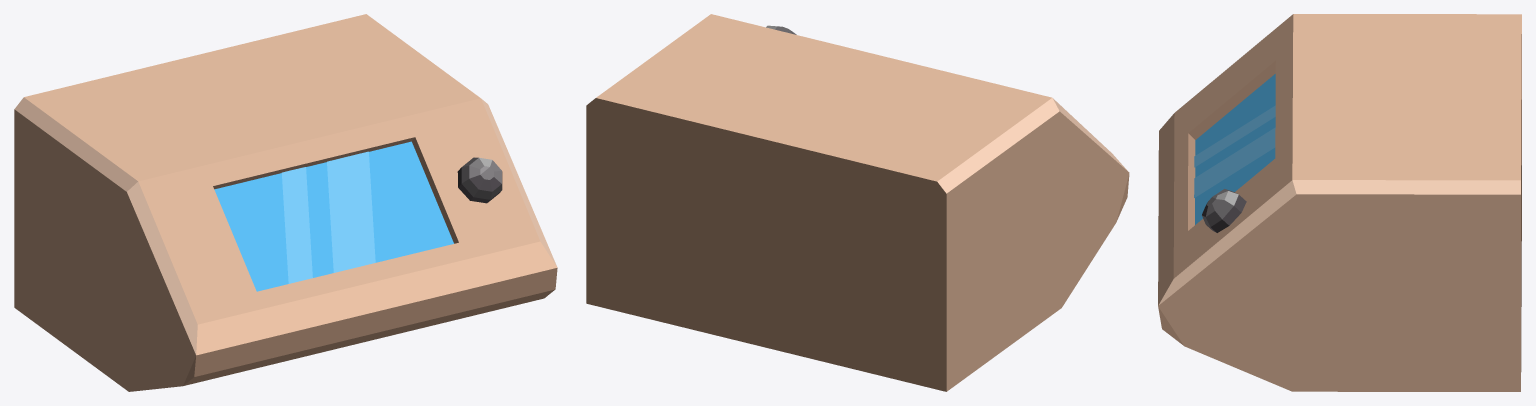
Rendered from BAKE_INT_L1_CashRegister_01.fbx.
3 views of the same model, side by side, from view 1: azimuth 30°, elevation 25°; view 2: azimuth 150°, elevation 25°; view 3: azimuth 270°, elevation 25° (orthographic).
Visible parts, largest first — view 1: BAKE_INT_L1_CashRegister_01; view 2: BAKE_INT_L1_CashRegister_01; view 3: BAKE_INT_L1_CashRegister_01.
Boxes of the visible parts, bbox=[...] form: BAKE_INT_L1_CashRegister_01: bbox=[14, 14, 557, 391]; BAKE_INT_L1_CashRegister_01: bbox=[586, 14, 1129, 391]; BAKE_INT_L1_CashRegister_01: bbox=[1158, 14, 1521, 391].
Size of the model in its own units: 0.5937 by 0.3268 by 0.5203.
